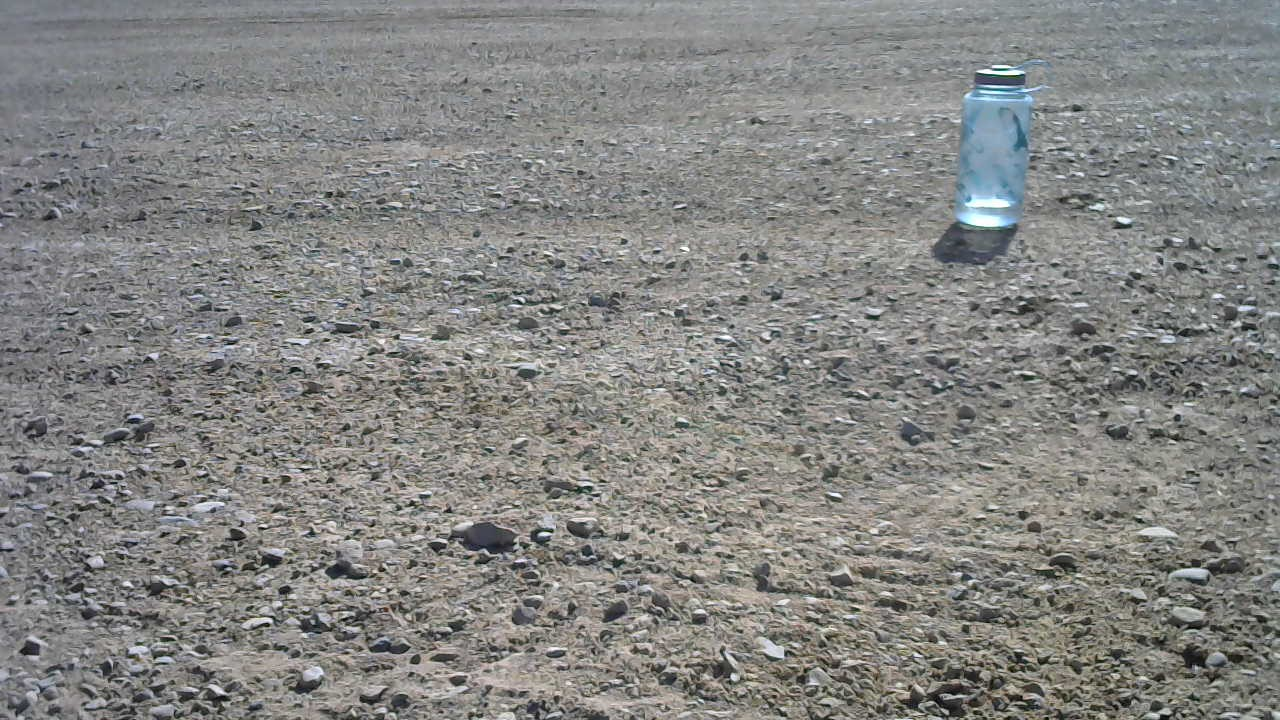bottle: (955, 59, 1048, 228)
